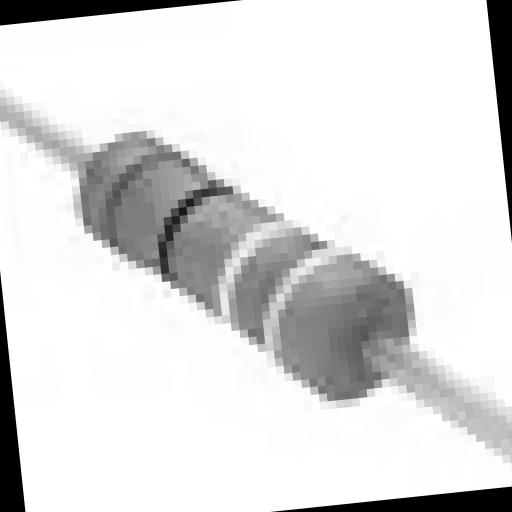RESISTOR: (10, 74, 470, 456)
